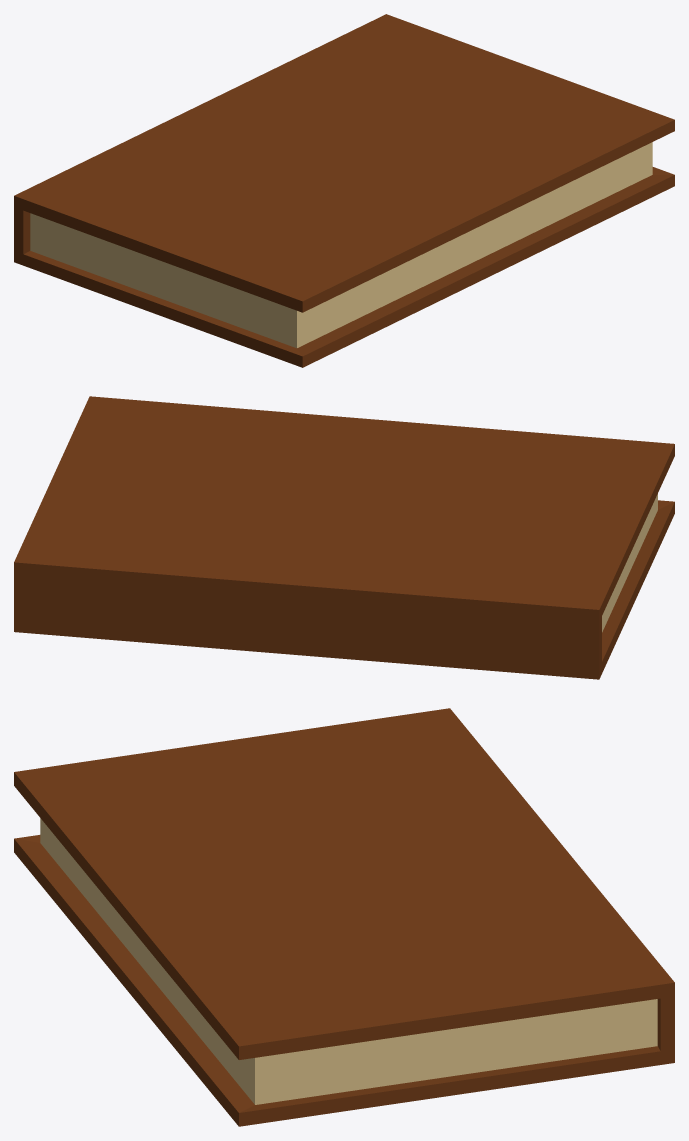
File: Book1_014.fbx
3 renders of one model, top to bottom at view 1: azimuth 30°, elevation 25°; view 2: azimuth 150°, elevation 25°; view 3: azimuth 270°, elevation 25°, orthographic. The views are drawn at different scales.
Parts seen in each view (by area): view 1: Book1.014; view 2: Book1.014; view 3: Book1.014.
Part boxes in pixels (x1=…): Book1.014: x1=14, y1=14, x2=674, y2=367; Book1.014: x1=14, y1=396, x2=674, y2=679; Book1.014: x1=14, y1=708, x2=674, y2=1126.
Size of the model in its own units: 59.62 by 6.6 by 49.23.
